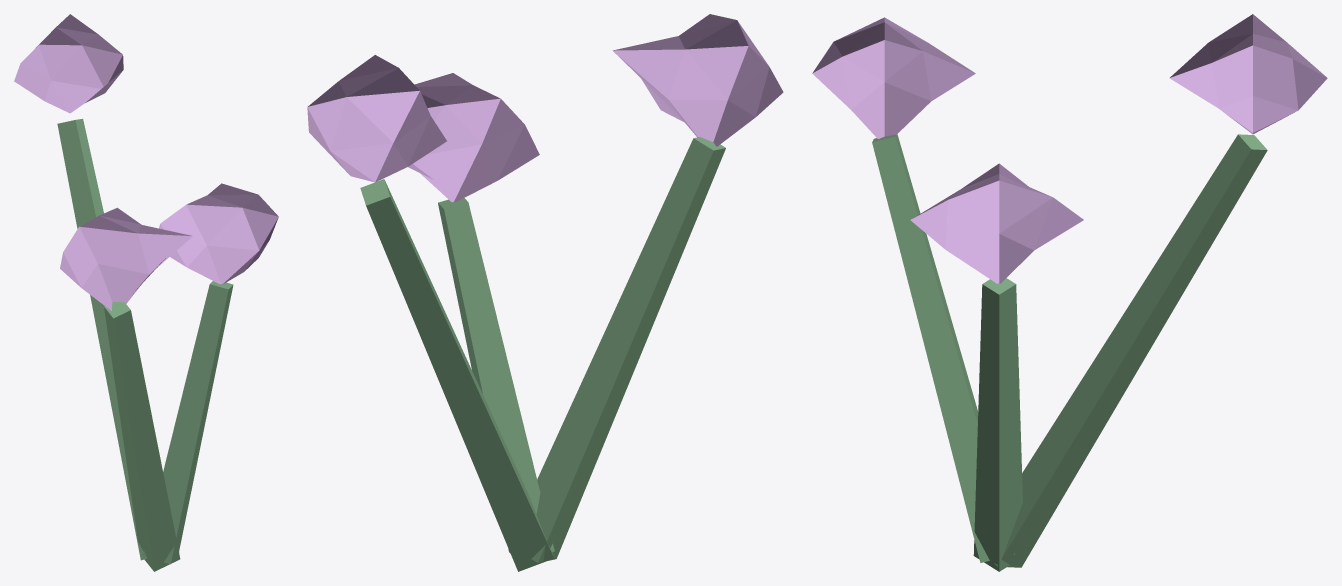
Rendered from flower_v45.glb.
3 renders of one model, left to right at view 1: azimuth 30°, elevation 25°; view 2: azimuth 150°, elevation 25°; view 3: azimuth 270°, elevation 25°, orthographic. The views are drawn at different scales.
Parts seen in each view (by area): view 1: lod0; view 2: lod0; view 3: lod0.
Part boxes in pixels (left/top/right/bottom): lod0: left=14, top=14, right=278, bottom=571; lod0: left=307, top=14, right=783, bottom=571; lod0: left=812, top=14, right=1327, bottom=571.
Size of what is drawn, in the model's own units: 0.2606 by 0.4387 by 0.3645.
